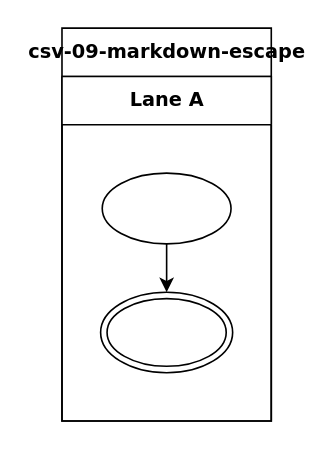
This 332x449 diagram has some shape labels left out. Here are the shapes that lost their labels. From the top down, the centre of each, then its label:
At point 166,207: "a \| b".
At point 166,332: "Done".
